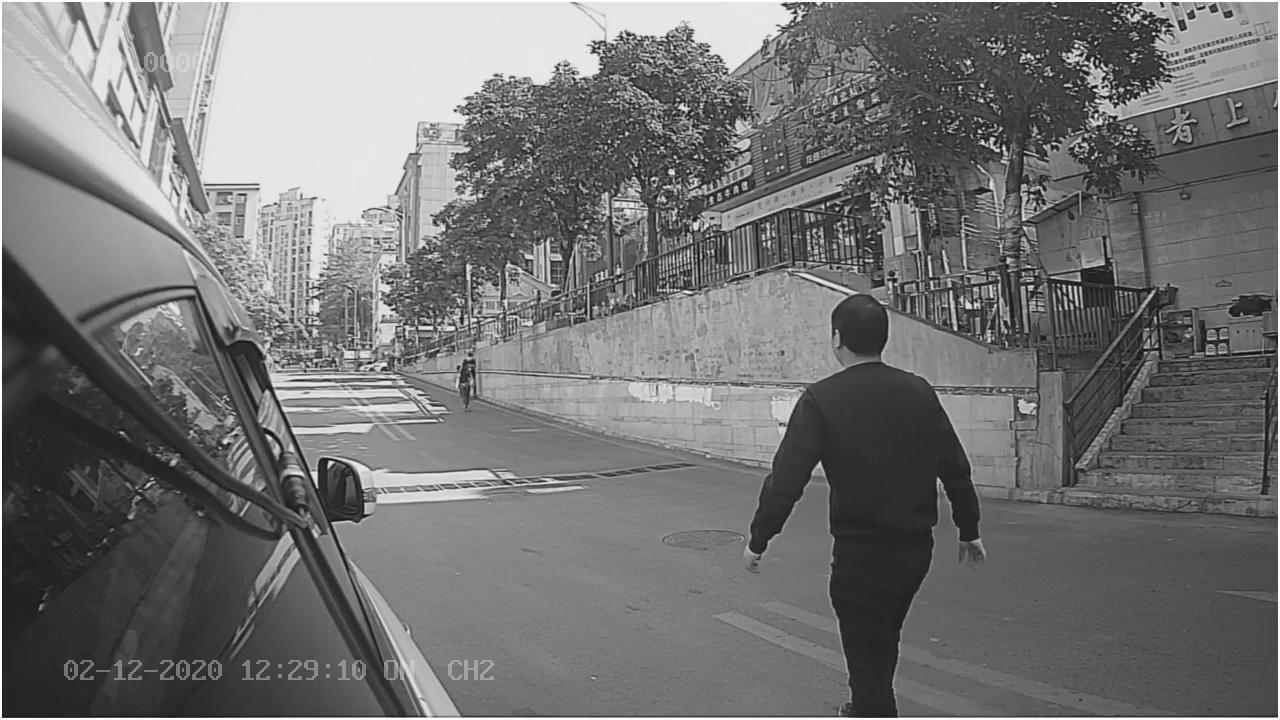person: (742, 284, 992, 590)
